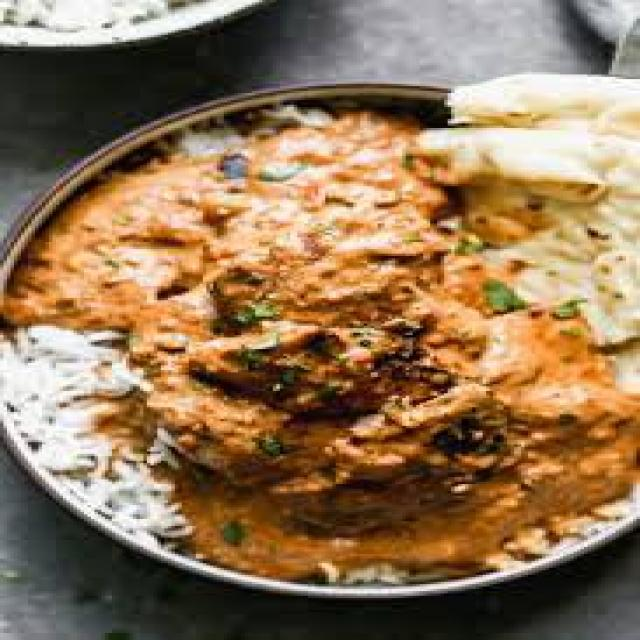Butter Chicken: (21, 117, 640, 578)
